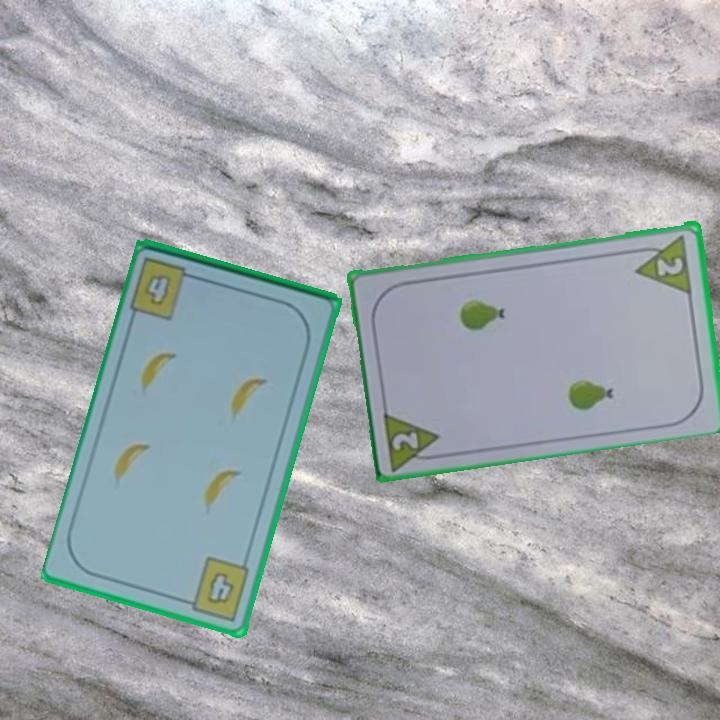2p: (380, 406, 447, 471), (654, 253, 687, 279)
4b: (179, 553, 253, 624), (127, 254, 203, 323)
